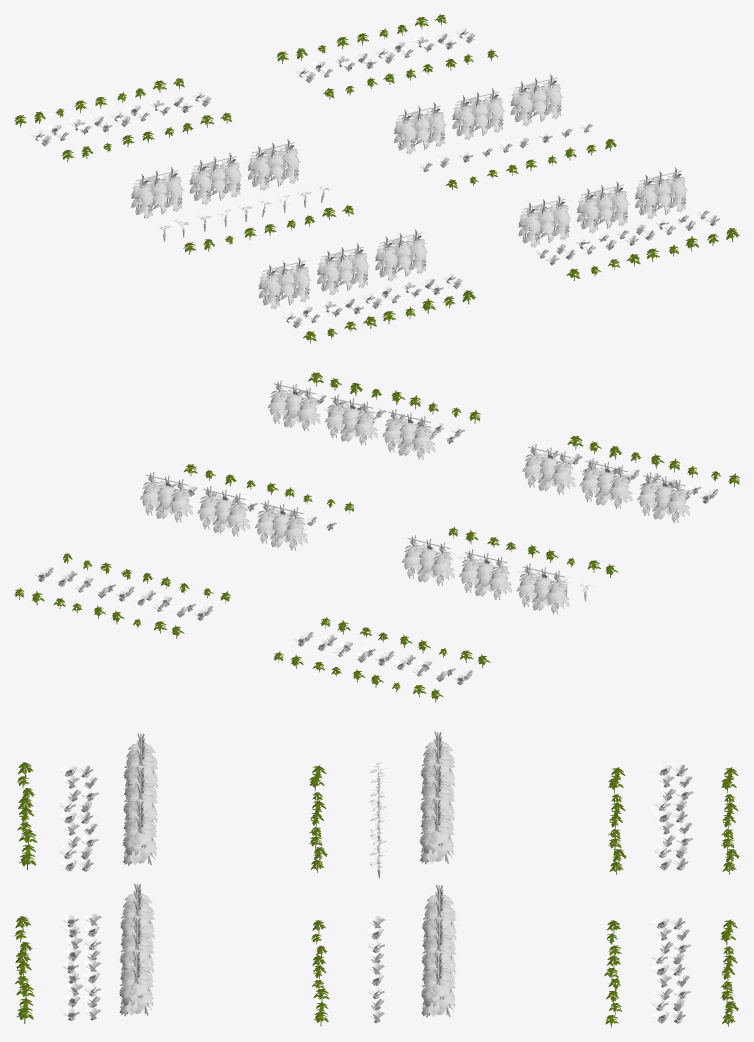
The model's file is a_sch_ground01_obj_vegetableset01.gltf.
3 renders of one model, top to bottom at view 1: azimuth 30°, elevation 25°; view 2: azimuth 150°, elevation 25°; view 3: azimuth 270°, elevation 25°, orthographic. The views are drawn at different scales.
Parts seen in each view (by area): view 1: um_a_sch_ground01_obj_vegetableset01_model_lod0Shape:objects (×2), um_a_sch_ground01_obj_vegetableset01_model_lod1Shape:objects, um_a_sch_ground01_obj_vegetableset01_model_lod0Shape:a_sch_g; view 2: um_a_sch_ground01_obj_vegetableset01_model_lod0Shape:objects (×2), um_a_sch_ground01_obj_vegetableset01_model_lod1Shape:objects, um_a_sch_ground01_obj_vegetableset01_model_lod0Shape:a_sch_g; view 3: um_a_sch_ground01_obj_vegetableset01_model_lod0Shape:objects (×2), um_a_sch_ground01_obj_vegetableset01_model_lod1Shape:objects, um_a_sch_ground01_obj_vegetableset01_model_lod0Shape:a_sch_g.
Boxes of the visible parts, <box> form: um_a_sch_ground01_obj_vegetableset01_model_lod0Shape:objects (×2): <box>31,27,719,328</box>; um_a_sch_ground01_obj_vegetableset01_model_lod1Shape:objects: <box>131,75,687,309</box>; um_a_sch_ground01_obj_vegetableset01_model_lod0Shape:a_sch_g: <box>14,14,739,343</box>; um_a_sch_ground01_obj_vegetableset01_model_lod0Shape:objects (×2): <box>34,380,718,684</box>; um_a_sch_ground01_obj_vegetableset01_model_lod1Shape:objects: <box>140,380,689,613</box>; um_a_sch_ground01_obj_vegetableset01_model_lod0Shape:a_sch_g: <box>14,372,739,702</box>; um_a_sch_ground01_obj_vegetableset01_model_lod0Shape:objects (×2): <box>58,731,693,1023</box>; um_a_sch_ground01_obj_vegetableset01_model_lod1Shape:objects: <box>120,732,456,1017</box>; um_a_sch_ground01_obj_vegetableset01_model_lod0Shape:a_sch_g: <box>14,762,739,1027</box>.
Bounding box in the file's own units: 15.28 × 1.62 × 18.38.
